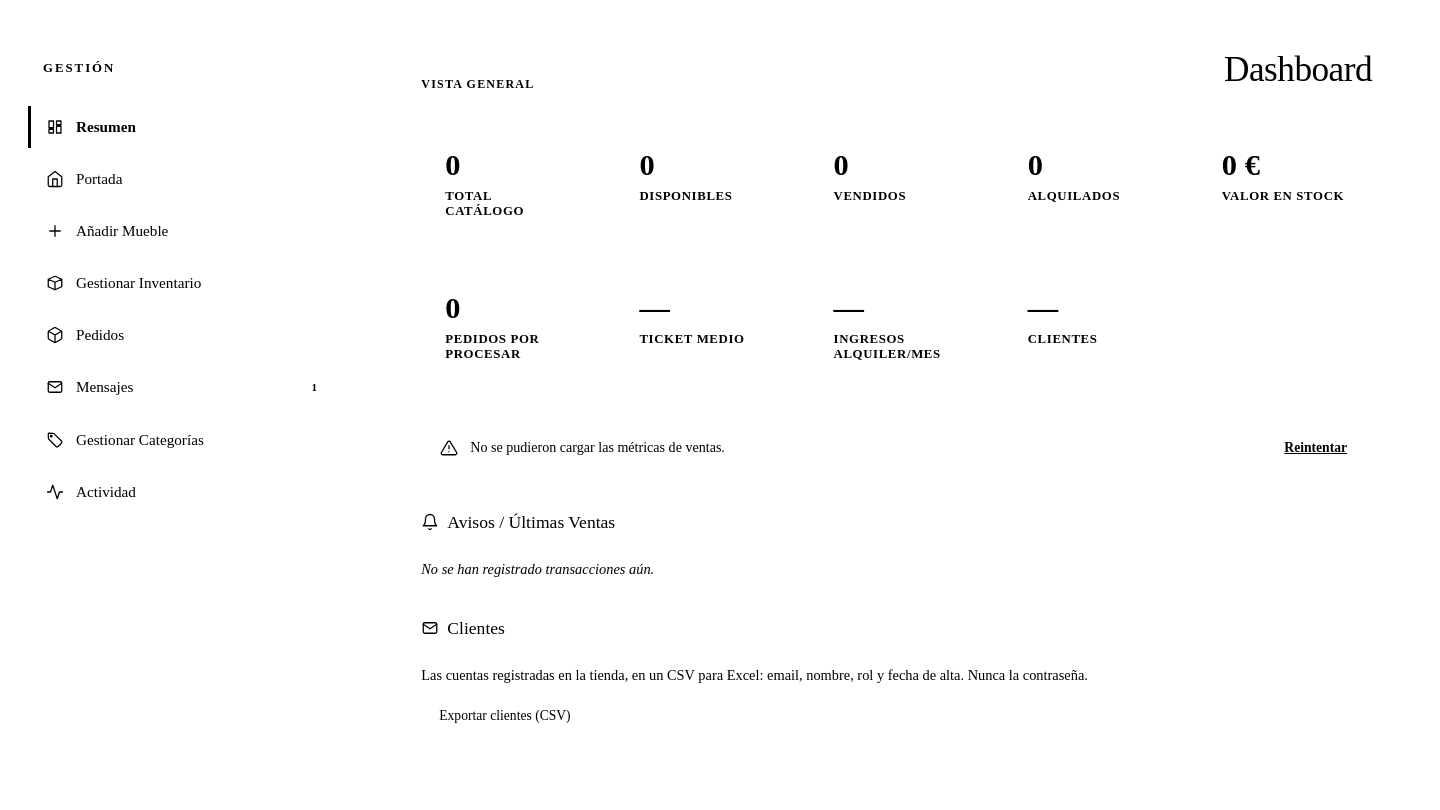
Test case: Mensajes — el mensaje entero › un mensaje ya leído no tiene el botón, y la X cierra
The width and height of the screenshot is (1440, 810).
Click the button "Mensajes 1" at (105, 387), box [28,366,341,409]
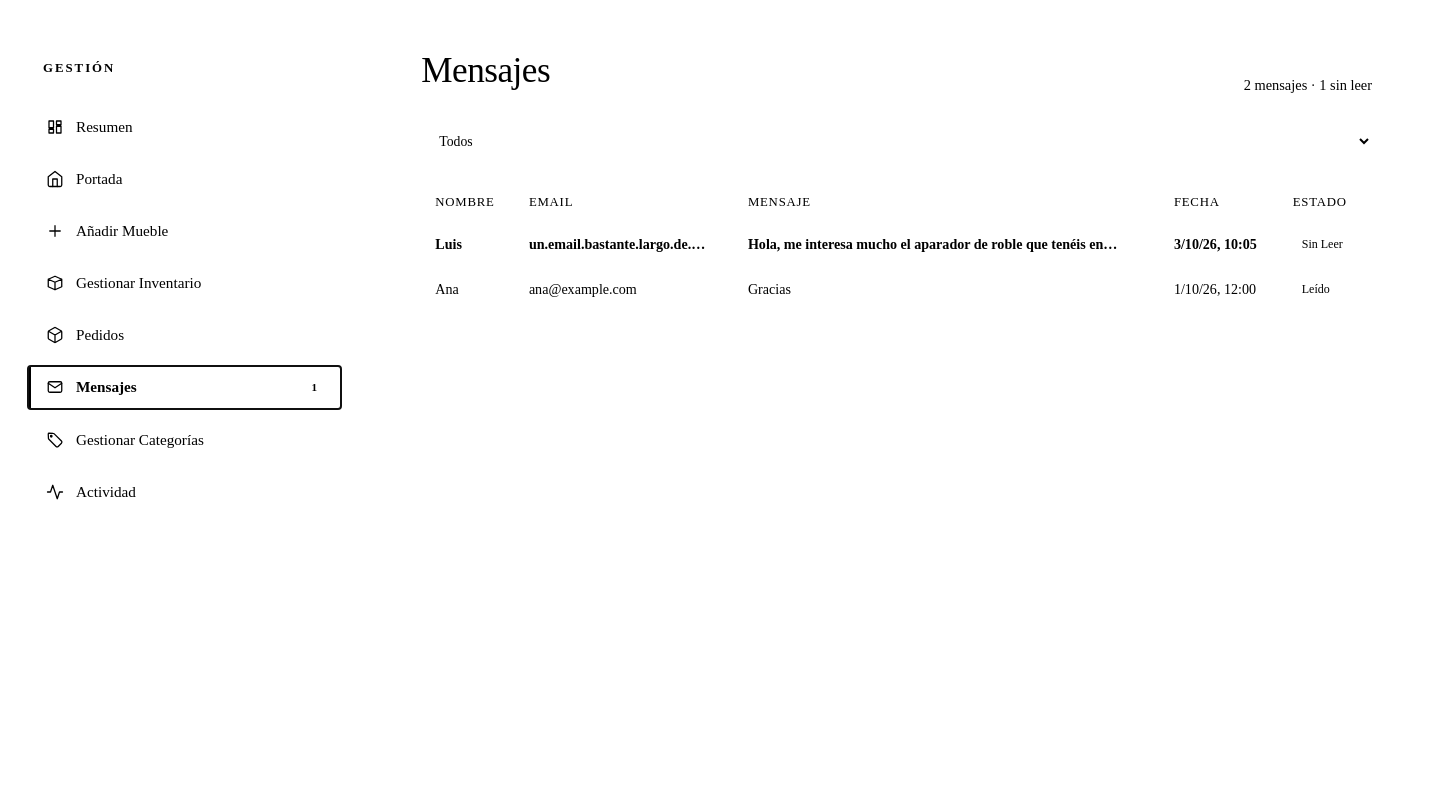
Click the button "Ana" at (447, 290), box [435,281,459,298]
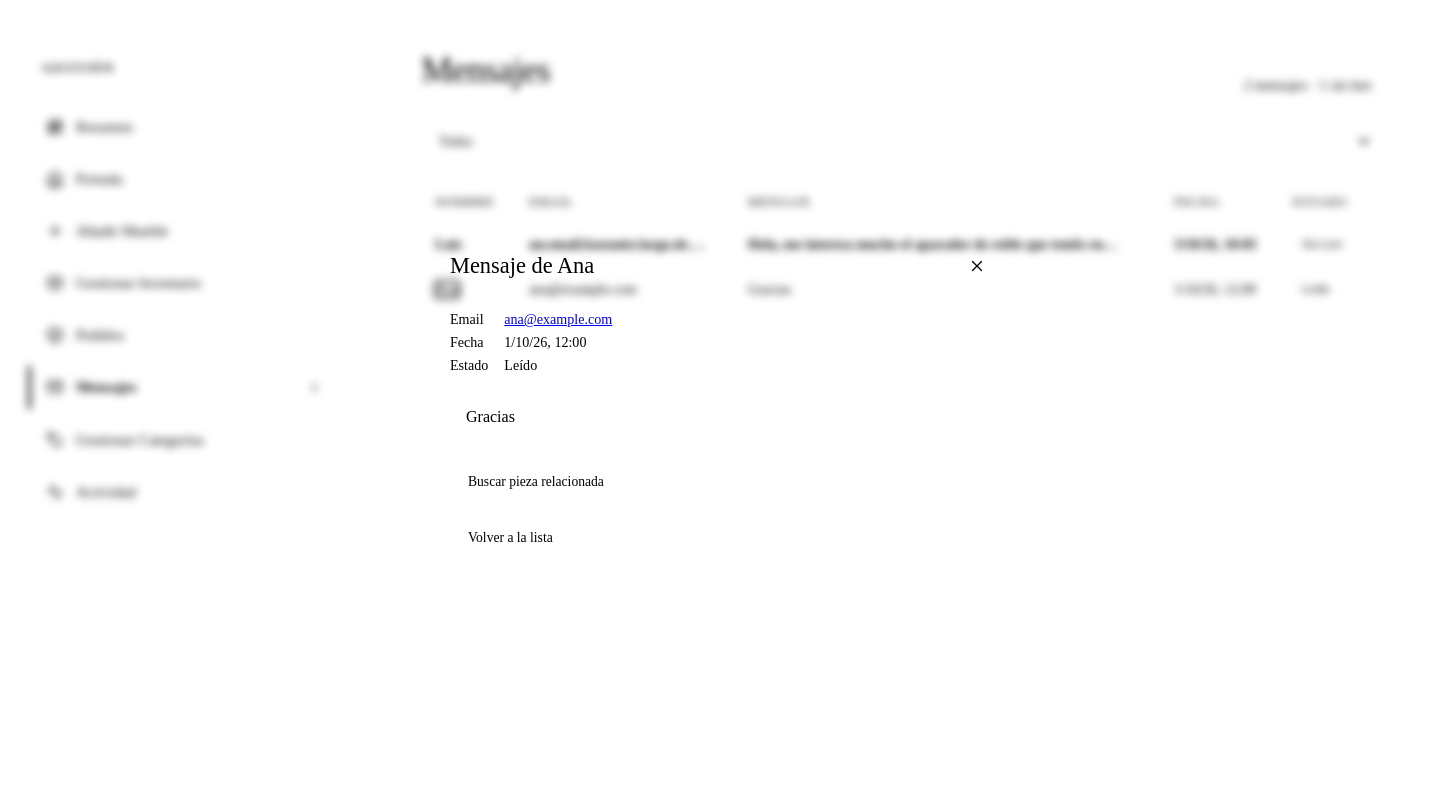
Click the button named "Cerrar" at (977, 266), box [964,253,990,279]
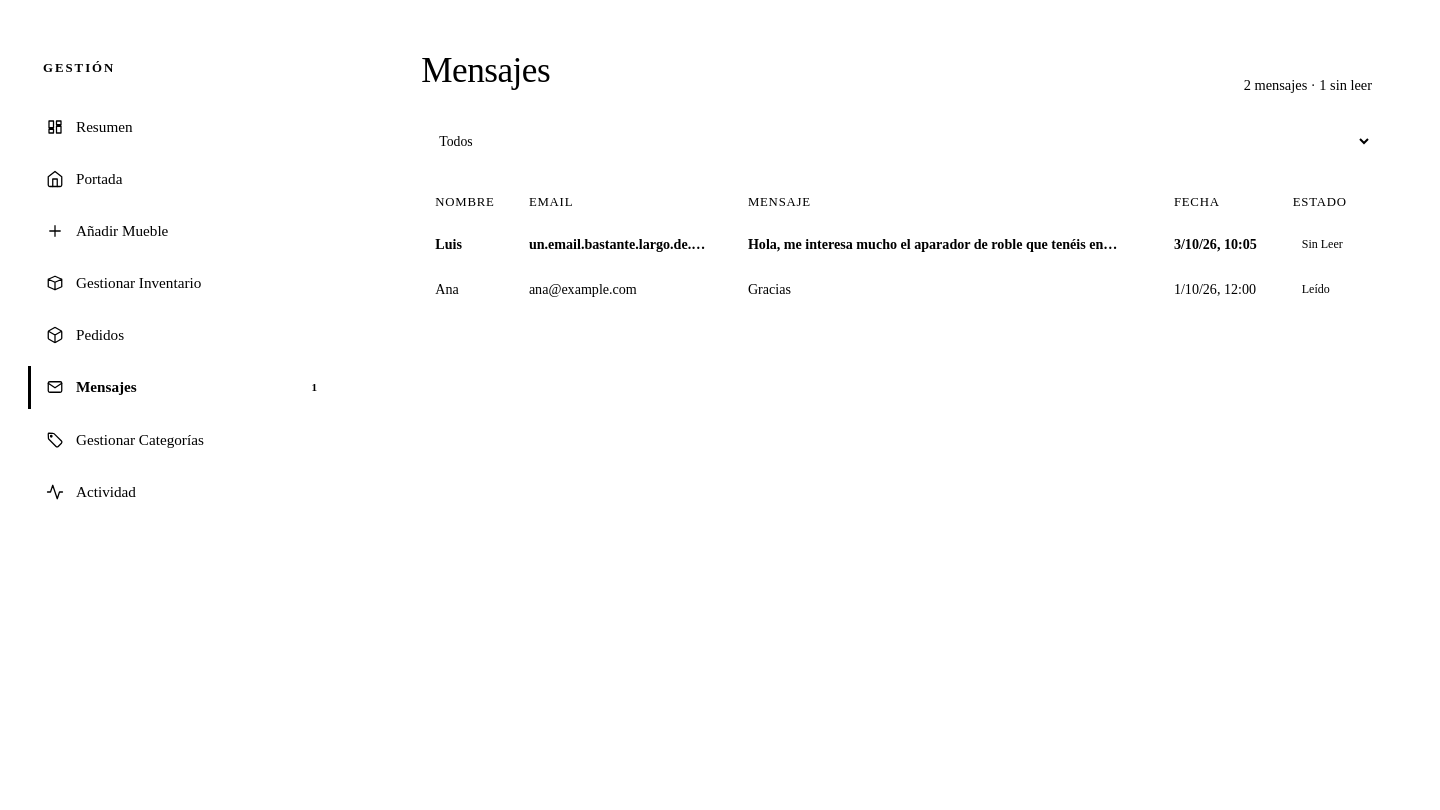
Result: the dialog is gone
